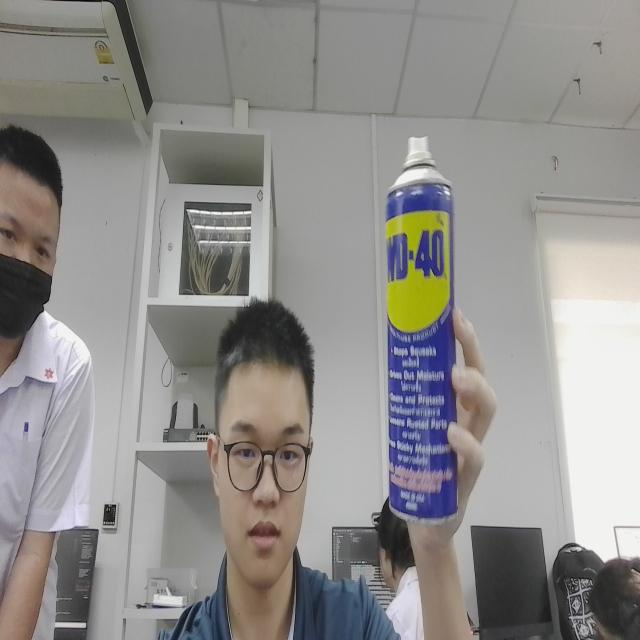wd-40: (379, 113, 465, 542)
